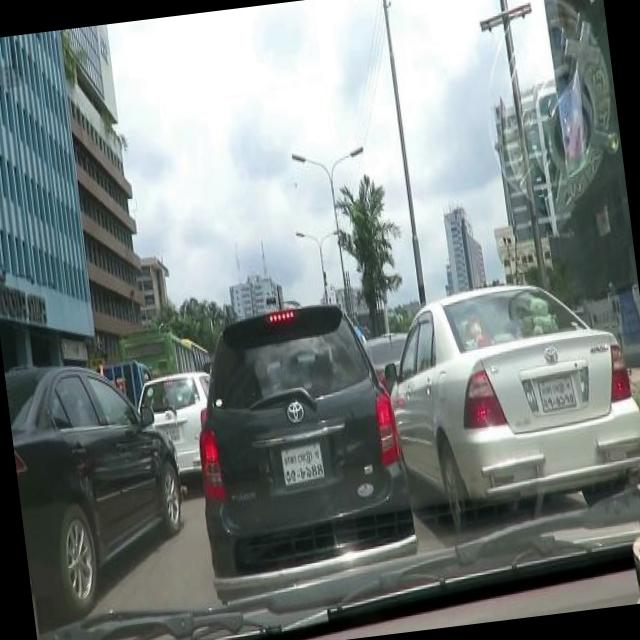bus: (118, 323, 196, 385)
car: (176, 290, 427, 610), (372, 264, 640, 558), (3, 345, 202, 626), (133, 364, 227, 497)
